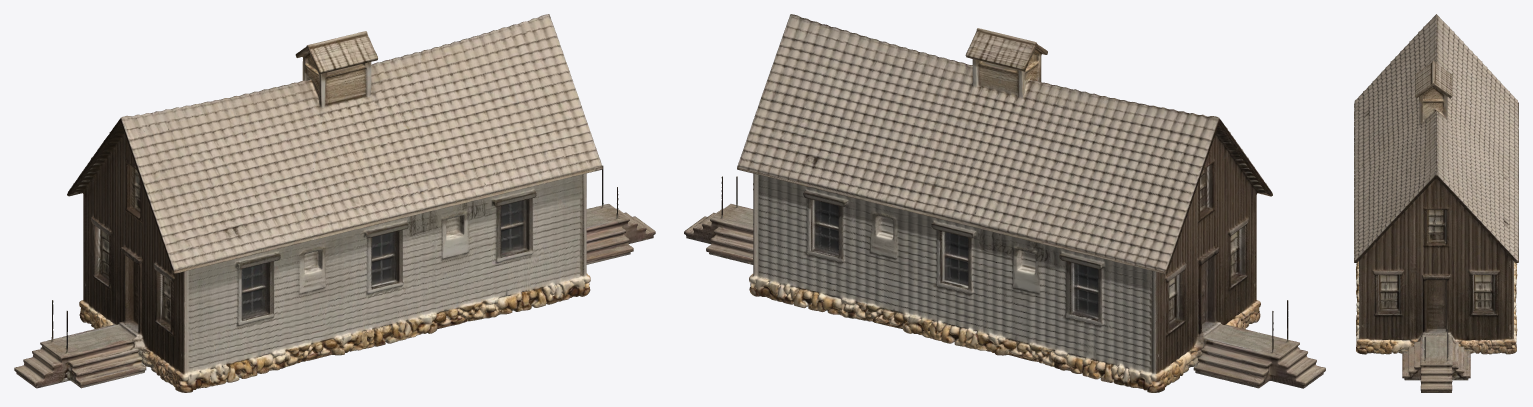
The model's file is house.glb.
3 views of the same model, side by side, from view 1: azimuth 30°, elevation 25°; view 2: azimuth 150°, elevation 25°; view 3: azimuth 270°, elevation 25° (orthographic). The views are drawn at different scales.
Size of the model in its own units: 1.9 by 0.788 by 0.571.
Materials: 1 (1 with a texture image).
